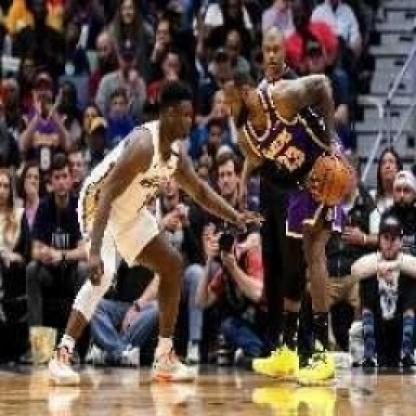basketball: (316, 157, 357, 205)
